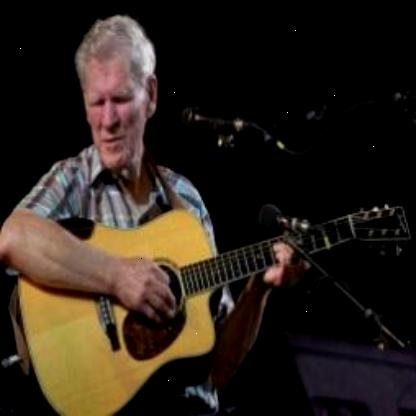acousticguitar: (5, 206, 415, 416)
